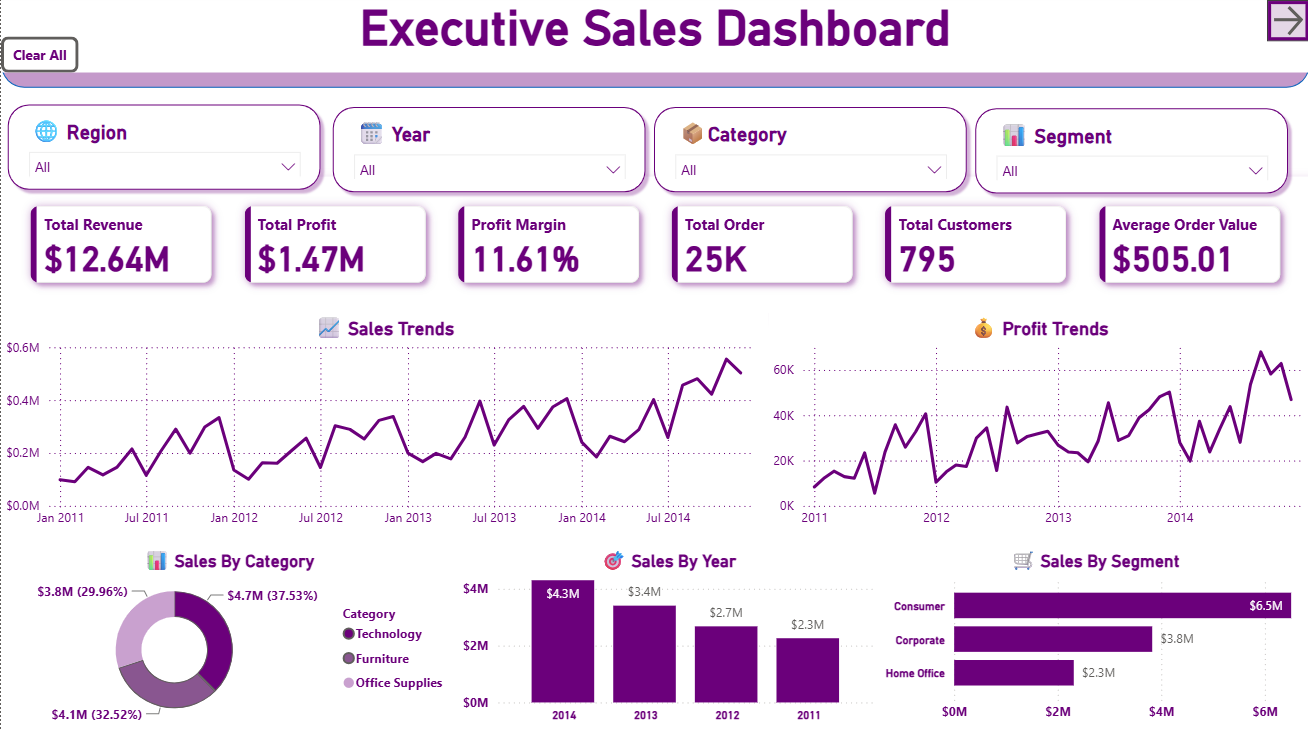

The dashboard page shown, as its layout file describes it:
{"tool":"powerbi","page":{"name":"Page 1","canvas":[1280,720],"ordinal":0},"visuals":[{"type":"shape","box":[0,0,1280.3,91.7],"z":0},{"type":"cardVisual","fields":{"Data":["superstore_cleaned.Total Revenue","superstore_cleaned.Total Profit","superstore_cleaned.Total Margin","superstore_cleaned.Total Order","superstore_cleaned.Total Customers","superstore_cleaned.Average Order Value"]},"box":[0,178.5,1280.3,133.3],"z":1000},{"type":"lineChart","title":"📈 Sales Trends","fields":{"Y":["Sum(superstore_cleaned.sales)"],"Category":["superstore_cleaned.YearMonth.Variation.Date Hierarchy.Year","superstore_cleaned.YearMonth.Variation.Date Hierarchy.Quarter","superstore_cleaned.YearMonth.Variation.Date Hierarchy.Month","superstore_cleaned.YearMonth.Variation.Date Hierarchy.Day"]},"box":[0,311.8,750.8,218.9],"z":2000},{"type":"lineChart","title":"💰 Profit Trends","fields":{"Category":["superstore_cleaned.YearMonth.Variation.Date Hierarchy.Year","superstore_cleaned.YearMonth.Variation.Date Hierarchy.Quarter","superstore_cleaned.YearMonth.Variation.Date Hierarchy.Month","superstore_cleaned.YearMonth.Variation.Date Hierarchy.Day"],"Y":["Sum(superstore_cleaned.profit)"]},"box":[750.8,311.8,529.5,218.9],"z":3000},{"type":"donutChart","title":"📊 Sales By Category","fields":{"Y":["Sum(superstore_cleaned.sales)"],"Category":["superstore_cleaned.category"]},"box":[0,540.5,446.3,179.8],"z":4000},{"type":"clusteredColumnChart","title":"🎯 Sales By Year","fields":{"Category":["superstore_cleaned.year"],"Y":["Sum(superstore_cleaned.sales)"]},"box":[446.3,540.5,413.3,179.8],"z":5000},{"type":"clusteredBarChart","title":"🛒 Sales By Segment","fields":{"Category":["superstore_cleaned.segment"],"Y":["Sum(superstore_cleaned.sales)"]},"box":[859.7,540.5,420.7,179.8],"z":6000},{"type":"textbox","box":[0,0,1280.3,77],"z":7000},{"type":"shape","box":[0,101.5,319.2,96.6],"z":8000},{"type":"slicer","fields":{"Values":["superstore_cleaned.region"]},"box":[17.1,113.7,286.1,64.8],"z":9000},{"type":"shape","box":[318.2,103.7,319.2,96.6],"z":10000},{"type":"slicer","fields":{"Values":["superstore_cleaned.year"]},"box":[335.3,115.9,286.1,64.8],"z":11000},{"type":"shape","box":[632.2,103.7,319.2,96.6],"z":12000},{"type":"slicer","fields":{"Values":["superstore_cleaned.category"]},"box":[649.3,115.9,286.1,64.8],"z":13000},{"type":"shape","box":[946.2,104.6,319.2,96.6],"z":14000},{"type":"slicer","fields":{"Values":["superstore_cleaned.segment"]},"box":[963.3,116.9,286.1,64.8],"z":15000},{"type":"actionButton","box":[0,41.6,75.8,35.5],"z":16000},{"type":"actionButton","box":[1238.4,6.1,41.6,40.4],"z":17000}]}

Visuals, with their boxes in screenshot pixels (x1, y1, x2, y2), scaled from the page's 1280x720 canvas onto the 1308x729 screenshot:
shape: box(0, 0, 1307, 93)
cardVisual - superstore_cleaned.Total Revenue x superstore_cleaned.Total Profit: box(0, 181, 1307, 316)
"📈 Sales Trends" lineChart: box(0, 316, 767, 537)
"💰 Profit Trends" lineChart: box(767, 316, 1307, 537)
"📊 Sales By Category" donutChart: box(0, 547, 456, 728)
"🎯 Sales By Year" clusteredColumnChart: box(456, 547, 878, 728)
"🛒 Sales By Segment" clusteredBarChart: box(879, 547, 1307, 728)
textbox: box(0, 0, 1307, 78)
shape: box(0, 103, 326, 201)
slicer - superstore_cleaned.region: box(17, 115, 310, 181)
shape: box(325, 105, 651, 203)
slicer - superstore_cleaned.year: box(343, 117, 635, 183)
shape: box(646, 105, 972, 203)
slicer - superstore_cleaned.category: box(664, 117, 956, 183)
shape: box(967, 106, 1293, 204)
slicer - superstore_cleaned.segment: box(984, 118, 1277, 184)
actionButton: box(0, 42, 77, 78)
actionButton: box(1265, 6, 1307, 47)
